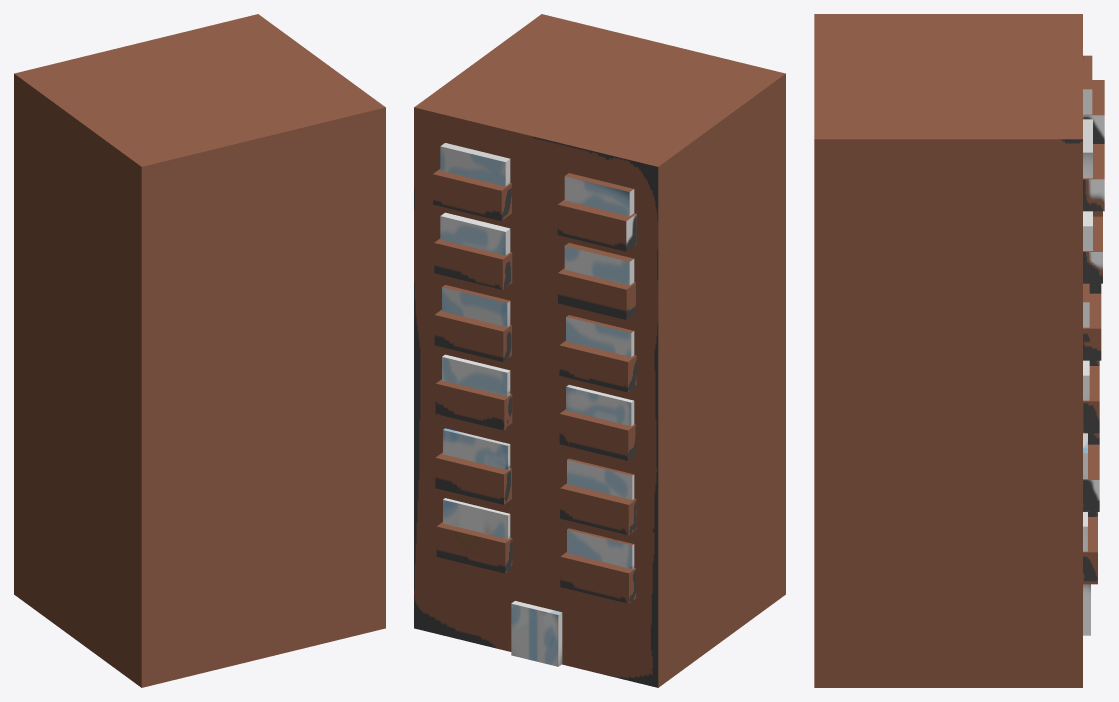
Rendered from predio1becomarrom.fbx.
3 renders of one model, left to right at view 1: azimuth 30°, elevation 25°; view 2: azimuth 150°, elevation 25°; view 3: azimuth 270°, elevation 25°, orthographic. The views are drawn at different scales.
Parts seen in each view (by area): view 1: Cube; view 2: Cube; view 3: Cube.
Boxes of the visible parts, bbox=[...] form: Cube: bbox=[14, 14, 385, 687]; Cube: bbox=[414, 14, 785, 687]; Cube: bbox=[814, 14, 1104, 687].
Bounding box in the file's own units: 565 × 1153 × 553.
